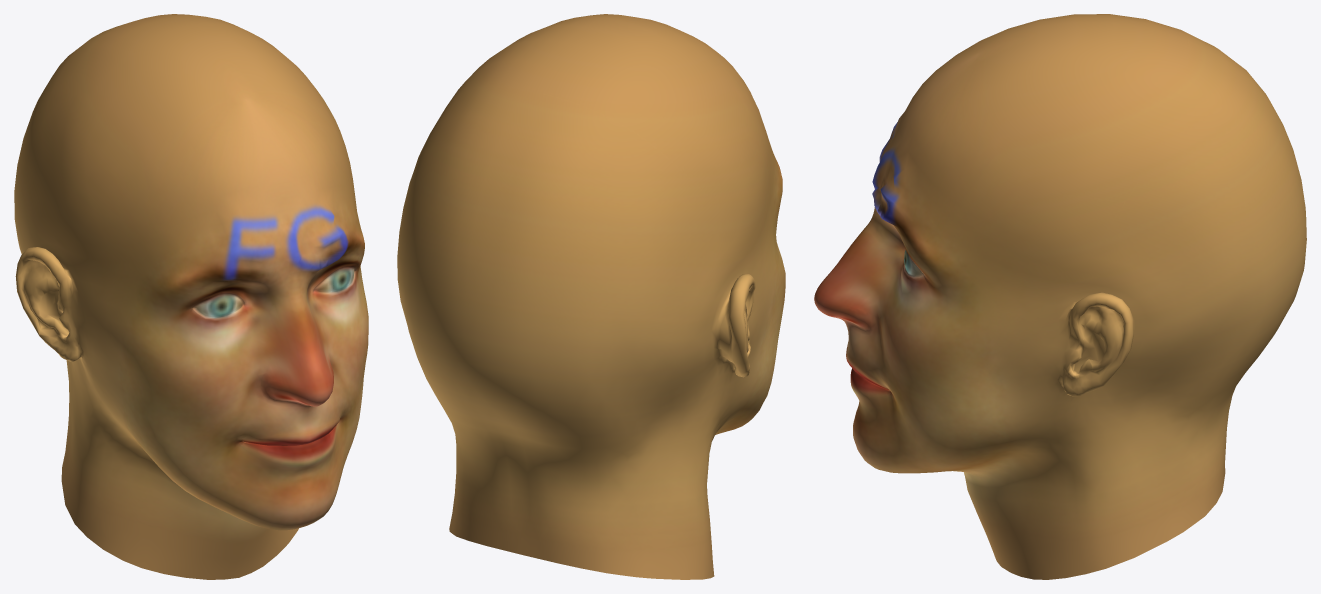
The model's file is avg_anyrace_female_13.obj.
3 renders of one model, left to right at view 1: azimuth 30°, elevation 25°; view 2: azimuth 150°, elevation 25°; view 3: azimuth 270°, elevation 25°, orthographic. The views are drawn at different scales.
Parts seen in each view (by area): view 1: HeadHires; view 2: HeadHires; view 3: HeadHires.
Part boxes in pixels (x1,y1,x2,y2): HeadHires: (14,14,368,579); HeadHires: (397,14,785,579); HeadHires: (814,14,1306,579).
Bounding box in the file's own units: 185 × 283 × 240.
3 materials, 3 textured.
